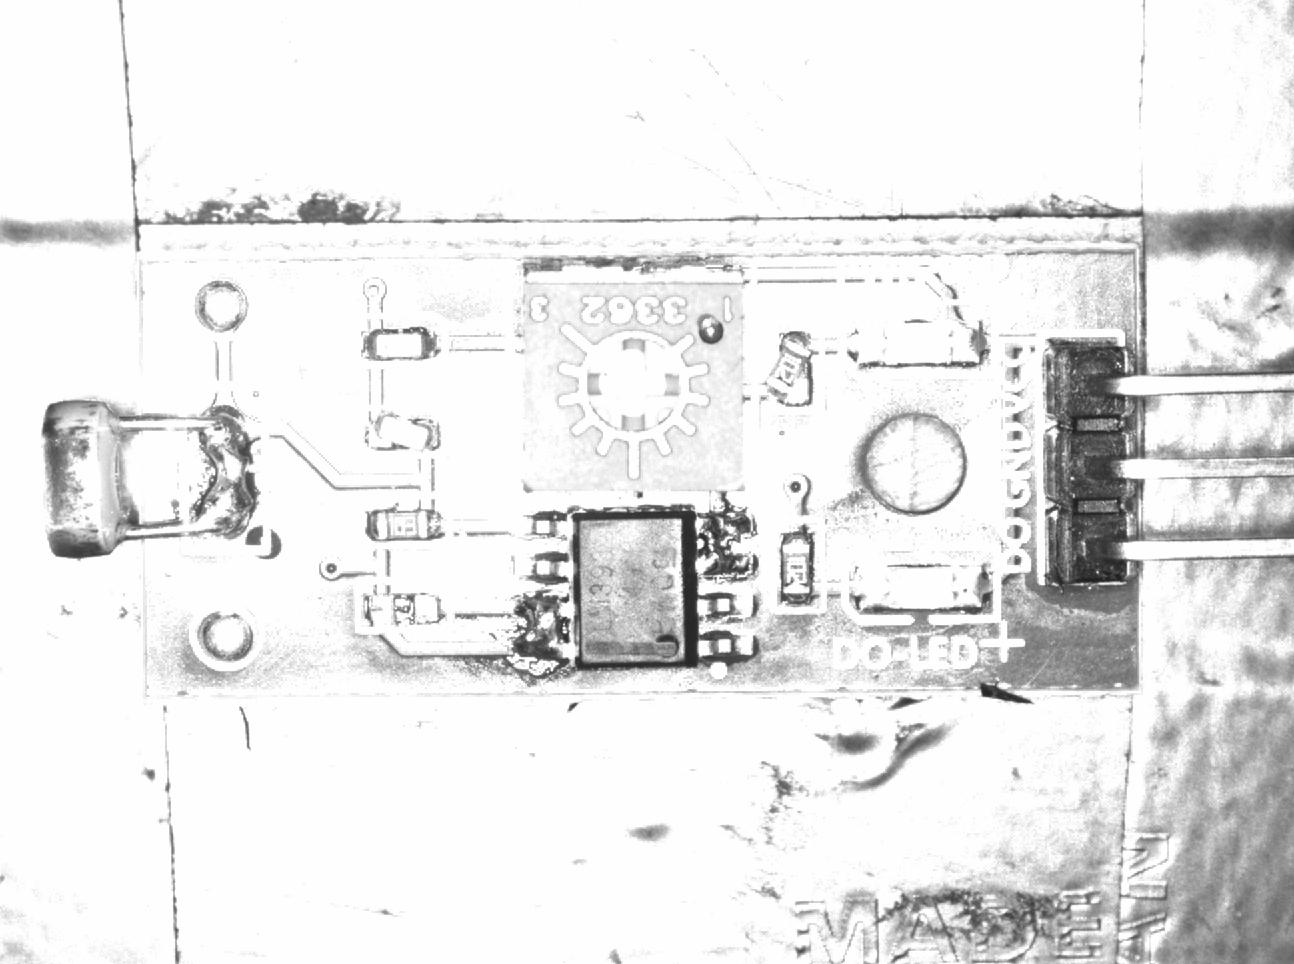bridge: (181, 394, 271, 555), (500, 586, 576, 674), (691, 498, 764, 588)
lifted: (765, 315, 824, 420), (365, 405, 449, 456)
miss: (356, 580, 454, 632)
ok: (771, 516, 824, 612), (360, 498, 451, 547), (356, 321, 444, 365)
